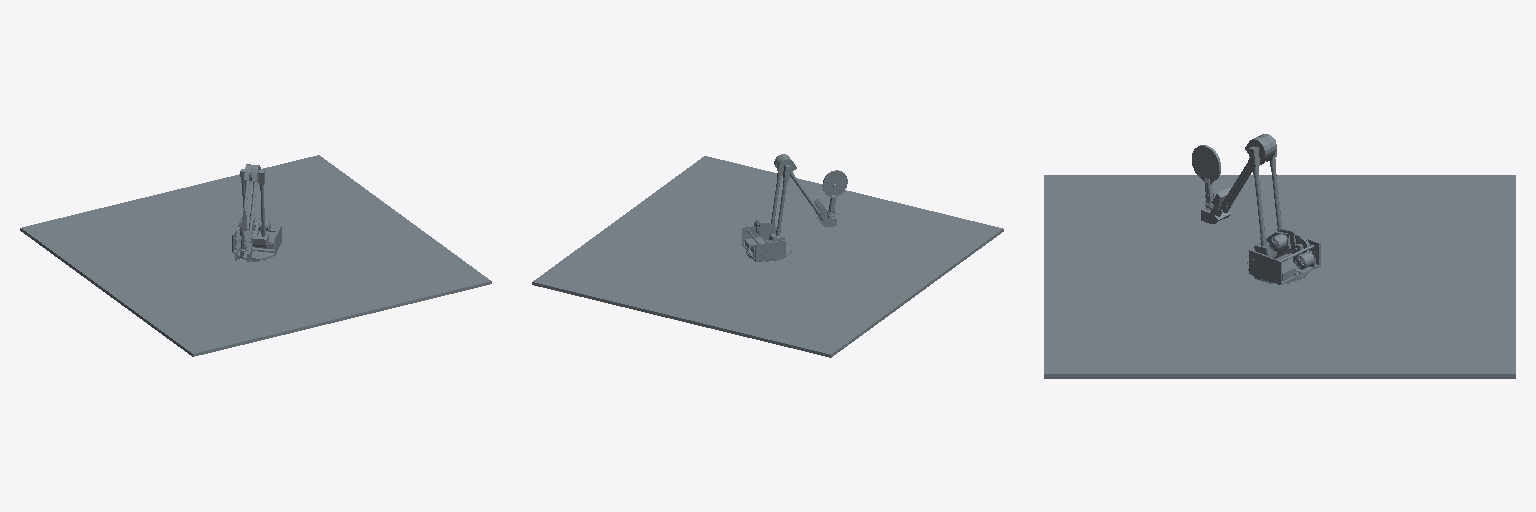
The robot description file, URDF, robot "mainarmass":
<robot name="mainarmass">
    <material name="black"><color rgba="0.529 0.568 0.6 1" /></material>

    <link name="root">
        <visual>
            <origin xyz="0 0 0" rpy="0 0 0" />
            <geometry><sphere radius="0.001"/></geometry>
            <material name="black" />
        </visual>
    </link>

    <link name="Base">
        <inertial>
            <mass value="0.219" />
            <origin xyz="0 0 0.005" rpy="0 0 0" />
            <inertia ixx="0.0009559" ixy="0" ixz="0" iyy="0.0009559" iyz="0" izz="0.00190814" />
        </inertial>
        <visual>
            <origin xyz="0 0 0" rpy="0 0 0" />
            <geometry><mesh filename="package://mainarmass/meshes/67.stl" scale="1 1 1" /></geometry>
            <material name="black" />
        </visual>
        <collision>
            <origin xyz="0 0 0" rpy="0 0 0" />
            <geometry><mesh filename="package://mainarmass/meshes/67.stl" scale="1 1 1" /></geometry>
        </collision>
    </link>

    <link name="Shoulder">
        <inertial>
            <mass value="3.232" />
            <origin xyz="0.0015 0.0238 0.0500" rpy="0 0 0" />
            <inertia ixx="0.01827653" ixy="0.00349413" ixz="-0.00033063" iyy="0.01968154" iyz="-0.00175414" izz="0.03042546" />
        </inertial>
        <visual>
            <origin xyz="0.0637 0.1917 0.0902" rpy="0 0 0" />
            <geometry><mesh filename="package://mainarmass/meshes/63.stl" scale="1 1 1" /></geometry>
            <material name="black" />
        </visual>
        <collision>
            <origin xyz="0.0637 0.1917 0.0902" rpy="0 0 0" />
            <geometry><mesh filename="package://mainarmass/meshes/63.stl" scale="1 1 1" /></geometry>
        </collision>
    </link>

    <link name="UpperArm">
        <inertial>
            <mass value="1.456" />
            <origin xyz="0.0016 0.0003 0.0734" rpy="0 0 0" />
            <inertia ixx="0.02606584" ixy="-0.00147774" ixz="0.00295468" iyy="0.02661382" iyz="0.00583087" izz="0.00673394" />
        </inertial>
        <visual>
            <origin xyz="-0.0453 0.1279 0.0401" rpy="0 0 0" />
            <geometry><mesh filename="package://mainarmass/meshes/75.stl" scale="1 1 1" /></geometry>
            <material name="black" />
        </visual>
        <collision>
            <origin xyz="-0.0453 0.1279 0.0401" rpy="0 0 0" />
            <geometry><mesh filename="package://mainarmass/meshes/75.stl" scale="1 1 1" /></geometry>
        </collision>
    </link>

    <link name="Forearm">
        <inertial>
            <mass value="0.757" />
            <origin xyz="-0.0255 -0.0694 -0.1516" rpy="0 0 0" />
            <inertia ixx="0.02490527" ixy="-0.00176138" ixz="-0.00375067" iyy="0.02114019" iyz="-0.00953407" izz="0.00606278" />
        </inertial>
        <visual>
            <origin xyz="0.0640 0.2460 -0.3971" rpy="0 0 0" />
            <geometry><mesh filename="package://mainarmass/meshes/79.stl" scale="1 1 1" /></geometry>
            <material name="black" />
        </visual>
        <collision>
            <origin xyz="0.0640 0.2460 -0.3971" rpy="0 0 0" />
            <geometry><mesh filename="package://mainarmass/meshes/79.stl" scale="1 1 1" /></geometry>
        </collision>
    </link>

    <link name="Wrist">
        <inertial>
            <mass value="0.086" />
            <origin xyz="-0.0285 0.0006 0.0133" rpy="0 0 0" />
            <inertia ixx="0.00004728" ixy="-0.00001086" ixz="0.00002008" iyy="0.00005686" iyz="0.00000813" izz="0.00003823" />
        </inertial>
        <visual>
            <origin xyz="0.1232 0.3795 0.0397" rpy="0 0 0" />
            <geometry><mesh filename="package://mainarmass/meshes/59.stl" scale="1 1 1" /></geometry>
            <material name="black" />
        </visual>
        <collision>
            <origin xyz="0.1232 0.3795 0.0397" rpy="0 0 0" />
            <geometry><mesh filename="package://mainarmass/meshes/59.stl" scale="1 1 1" /></geometry>
        </collision>
    </link>

    <link name="Paddle">
        <inertial>
            <mass value="0.355" />
            <origin xyz="-0.0346 -0.0910 0.1368" rpy="0 0 0" />
            <inertia ixx="0.00254292" ixy="-0.0003235" ixz="0.00032513" iyy="0.00177002" iyz="0.00082579" izz="0.00103777" />
        </inertial>
        <visual>
            <origin xyz="0.1494 0.3836 -0.0516" rpy="0 0 0" />
            <geometry><mesh filename="package://mainarmass/meshes/71.stl" scale="1 1 1" /></geometry>
            <material name="black" />
        </visual>
        <collision>
            <origin xyz="0.1494 0.3836 -0.0516" rpy="0 0 0" />
            <geometry><mesh filename="package://mainarmass/meshes/71.stl" scale="1 1 1" /></geometry>
        </collision>
    </link>

    <link name="table_surface">
        <visual>
            <origin xyz="0.0 0.0 -0.01" rpy="0.0 0.0 0.0" />
            <geometry>
            <box size="2.0 2.0 0.02" /> </geometry>
            <material name="black" />
  	</visual>
        <collision>
            <origin xyz="0 0 -0.01" rpy="0 0 0" />
                <geometry>
                    <box size="2.0 2.0 0.02" />
                </geometry>
        </collision>
    </link>

    <link name="paddle_tcp">
        <visual>
            <origin xyz="0.0 0.0 0.0" rpy="0 0 0" />
            <geometry><sphere radius="0.01"/></geometry>
            <material name="black" />
        </visual>
    </link>

<joint name="table_to_base" type="fixed">
  <parent link="Base" />
  <child link="table_surface" />
  <origin xyz="0 0 0" rpy="0 0 0" /> </joint>

    <joint name="root_to_base" type="fixed">
        <origin xyz="0 0 0" rpy="0 0 0" />
        <parent link="root" />
        <child link="Base" />
    </joint>

    <joint name="BaseRotate_0" type="continuous">
        <origin xyz="0 0 0" rpy="0.01712 0.04808 -0.38348" />
        <axis xyz="0.04806 -0.01710 -0.99869" />
        <parent link="Base" />
        <child link="Shoulder" />
        <limit effort="35.0" velocity="5" />
    </joint>

    <joint name="UpperArmRotate_0" type="revolute">
        <origin xyz="-0.01750 -0.03317 0.10511" rpy="-0.08249 -0.02327 0.02051" />
        <axis xyz="0.93476 -0.35525 0" />
        <parent link="Shoulder" />
        <child link="UpperArm" />
        <limit lower="-0.2617" upper="1.3963" effort="30.0" velocity="5" />
    </joint>

    <joint name="ForeArmRotate_0" type="revolute">
        <origin xyz="-0.03355 -0.08830 0.45530" rpy="-0.06873 0.02609 -0.00089" />
        <axis xyz="0.93476 -0.35525 0" />
        <parent link="UpperArm" />
        <child link="Forearm" />
        <limit lower="-4.1888" upper="0.5236" effort="12.0" velocity="5" />
    </joint>

    <joint name="WristRotate_0" type="revolute">
        <origin xyz="-0.10957 -0.19888 -0.43388" rpy="-0.84990 0.27810 3.0151" />
        <axis xyz="0.93476 -0.35525 0" />
        <parent link="Forearm" />
        <child link="Wrist" />
        <limit lower="-2.967" upper="0.2618" effort="0.75" velocity="5" />
    </joint>

    <joint name="PaddleRotate_0" type="continuous">
        <origin xyz="-0.04174 -0.00429 0.02647" rpy="0 0 0" />
        <axis xyz="0.20602 0.54209 -0.81467" />
        <parent link="Wrist" />
        <child link="Paddle" />
        <limit effort="0.75" velocity="5" />
    </joint>

    <joint name="paddle_to_tcp" type="fixed">
        <parent link="Paddle" />
        <child link="paddle_tcp" />
	<origin xyz="-0.033 -0.105 0.149" rpy="-0.587 0.245 -1.933" />
    </joint>
</robot>

--- Facts derived from the render (not from the file) ---
The picture shows the robot from 3 angles, left to right: view 1: azimuth 30°, elevation 25°; view 2: azimuth 150°, elevation 25°; view 3: azimuth 270°, elevation 25°; orthographic projection.
Robot: mainarmass — 9 links, 8 joints (3 revolute, 2 continuous, 3 fixed); root link root; default pose: every joint at zero.
Visible links, largest first — view 1: table_surface, Forearm, UpperArm, Shoulder; view 2: table_surface, Shoulder, UpperArm, Forearm, Paddle; view 3: table_surface, Shoulder, UpperArm, Forearm, Paddle.
Boxes of the visible links, left/top/right/bottom form: table_surface: left=20, top=155, right=491, bottom=356; Forearm: left=235, top=164, right=260, bottom=261; UpperArm: left=240, top=169, right=270, bottom=247; Shoulder: left=232, top=222, right=281, bottom=260; table_surface: left=532, top=156, right=1003, bottom=357; Shoulder: left=742, top=226, right=792, bottom=261; UpperArm: left=754, top=165, right=790, bottom=241; Forearm: left=774, top=154, right=836, bottom=226; Paddle: left=822, top=170, right=847, bottom=214; table_surface: left=1044, top=175, right=1515, bottom=378; Shoulder: left=1247, top=234, right=1320, bottom=284; UpperArm: left=1249, top=139, right=1295, bottom=258; Forearm: left=1201, top=134, right=1276, bottom=223; Paddle: left=1192, top=145, right=1220, bottom=206.
Size in the robot's own frame: 2 by 2 by 0.6348 metres.
6 mesh visuals loaded from 6 distinct referenced files (6 ASCII STL).
